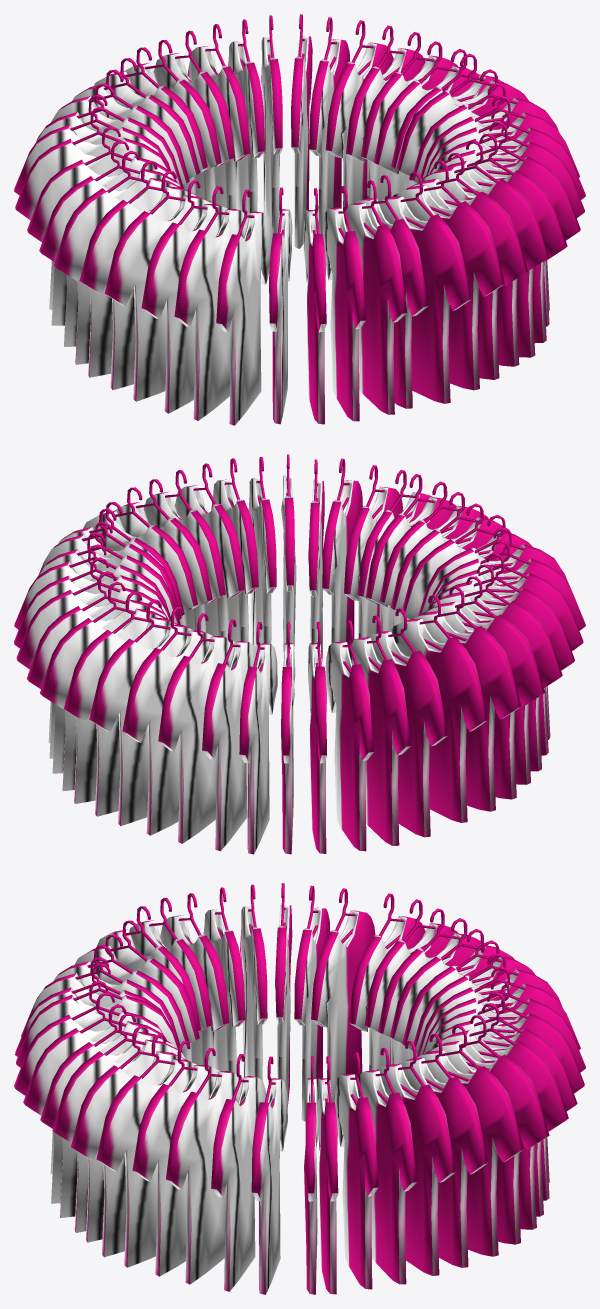
File: Shirts_circle_test.fbx
3 renders of one model, top to bottom at view 1: azimuth 30°, elevation 25°; view 2: azimuth 150°, elevation 25°; view 3: azimuth 270°, elevation 25°, orthographic. The views are drawn at different scales.
Parts seen in each view (by area): view 1: Plane.061; view 2: Plane.061; view 3: Plane.061.
Boxes of the visible parts, x1,y1,x2,y2 form: Plane.061: (14, 14, 585, 425); Plane.061: (14, 454, 585, 854); Plane.061: (14, 883, 585, 1294).
Size of the model in its own units: 810 by 342 by 798.
